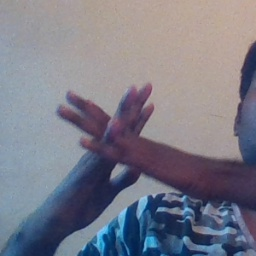W: (50, 72, 174, 195)
